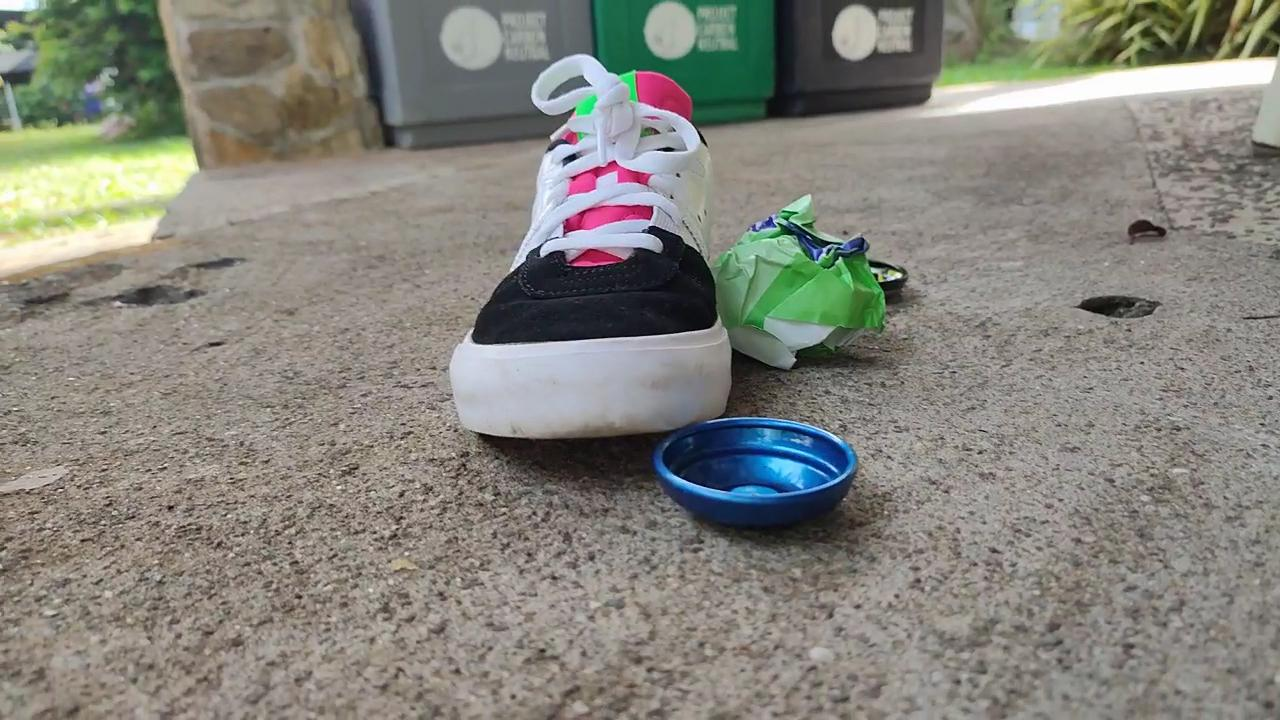Paper: (715, 180, 906, 382)
